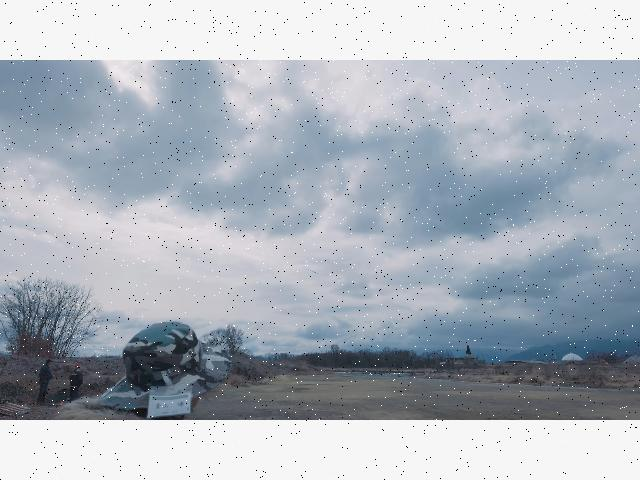Anti-Drone: (306, 267, 320, 277)
